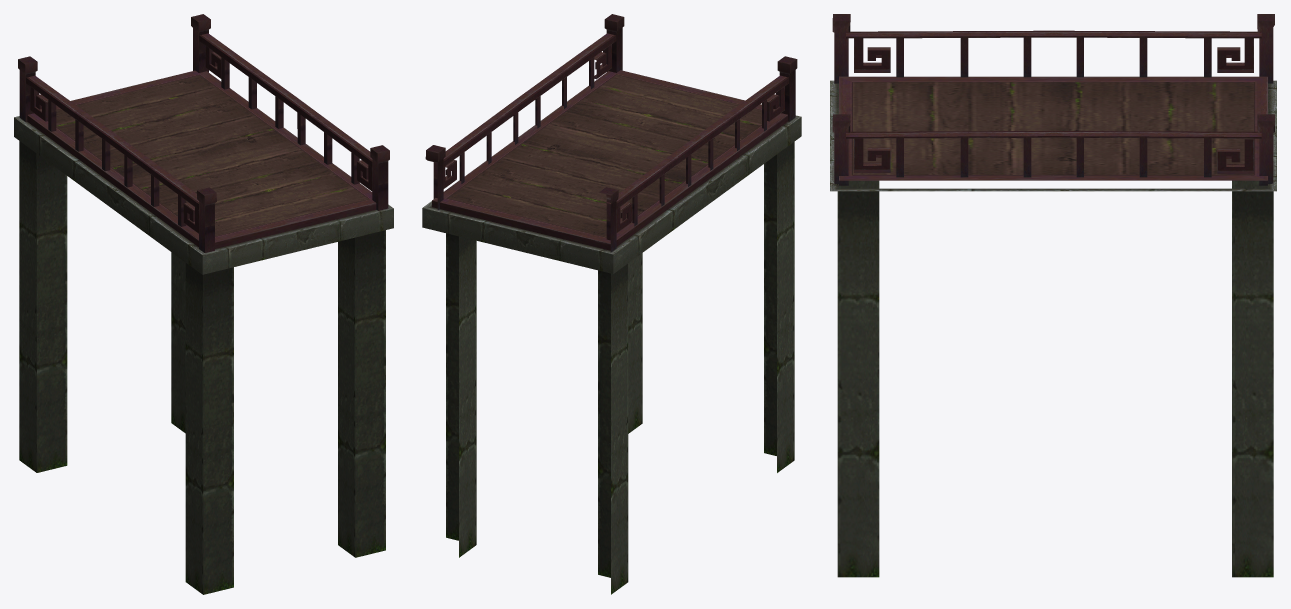
The model's file is zc_suzhou_muqiao01.FBX.
The picture shows the model from 3 angles, left to right: view 1: azimuth 30°, elevation 25°; view 2: azimuth 150°, elevation 25°; view 3: azimuth 270°, elevation 25°; orthographic projection. The views are drawn at different scales.
Visible parts, largest first — view 1: zc_suzhou_muqiao01; view 2: zc_suzhou_muqiao01; view 3: zc_suzhou_muqiao01.
Boxes of the visible parts, <box> form: zc_suzhou_muqiao01: <box>14,14,393,594</box>; zc_suzhou_muqiao01: <box>422,14,801,594</box>; zc_suzhou_muqiao01: <box>830,14,1276,577</box>.
Size of the model in its own units: 282 by 564 by 480.
1 material, 1 textured.
